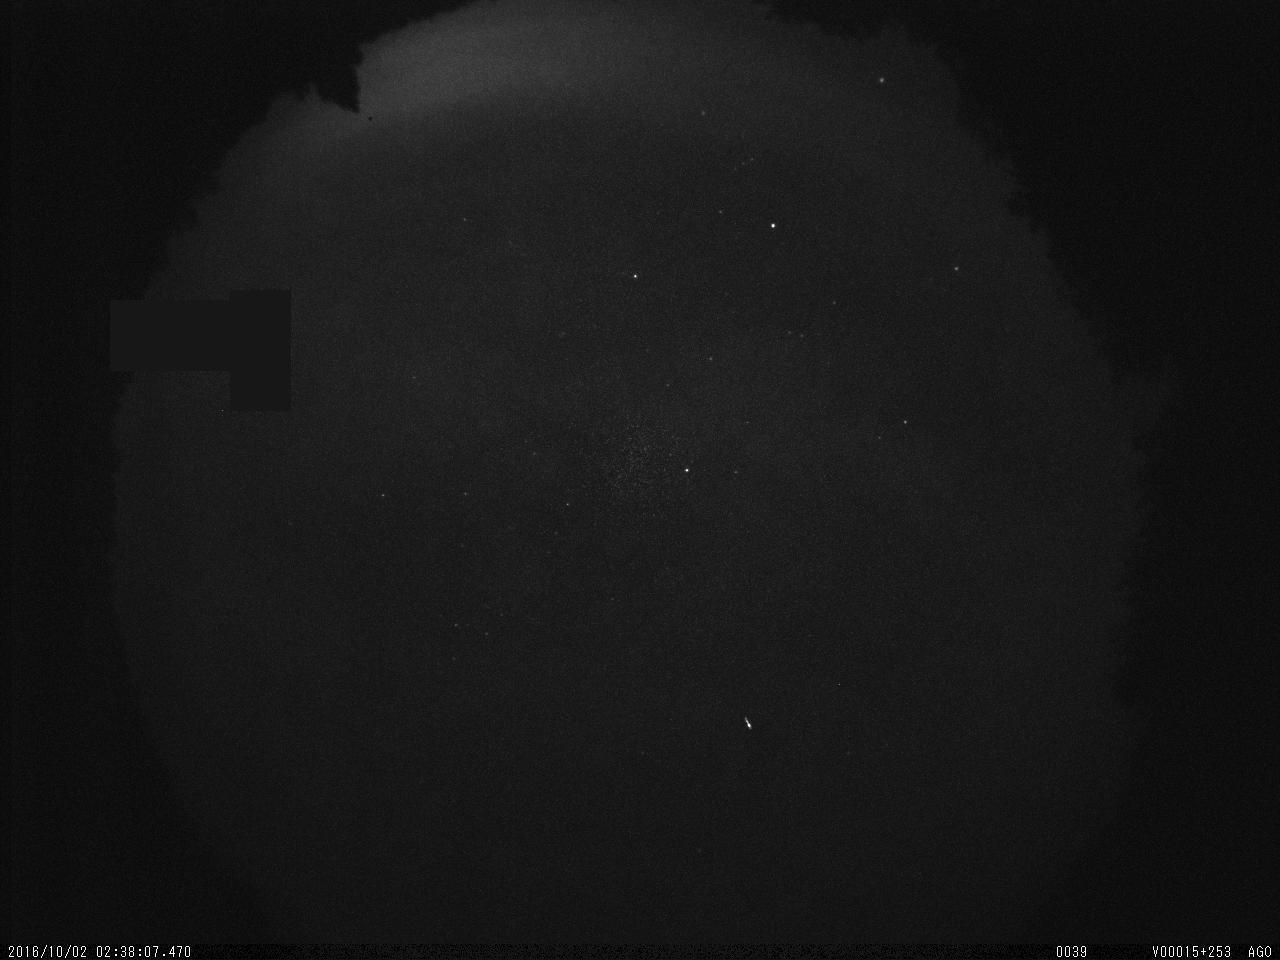Meteor: (741, 715, 754, 732)
